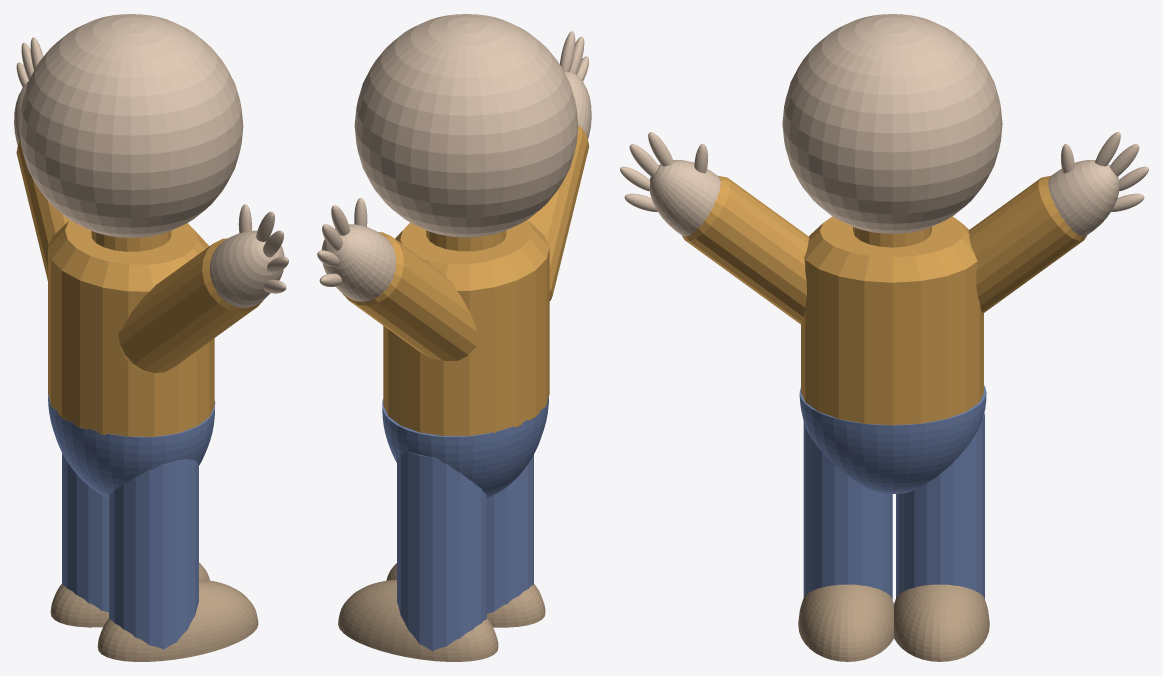
The model's file is boy_back.glb.
3 views of the same model, side by side, from view 1: azimuth 30°, elevation 25°; view 2: azimuth 150°, elevation 25°; view 3: azimuth 270°, elevation 25° (orthographic).
Visible parts, largest first — view 1: Mesh_Mesh_head_geo.001_lambert2SG.001; view 2: Mesh_Mesh_head_geo.001_lambert2SG.001; view 3: Mesh_Mesh_head_geo.001_lambert2SG.001.
Part boxes in pixels (x1,y1,x2,y2): Mesh_Mesh_head_geo.001_lambert2SG.001: [14, 14, 288, 661]; Mesh_Mesh_head_geo.001_lambert2SG.001: [317, 14, 591, 661]; Mesh_Mesh_head_geo.001_lambert2SG.001: [620, 14, 1148, 661].
Size of the model in its own units: 2.75 by 8 by 6.5.
